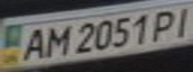0: (93, 16, 118, 52)
1: (127, 11, 157, 45)
2: (72, 19, 96, 55)
5: (112, 15, 136, 48)
A: (15, 25, 51, 62)
I: (166, 3, 193, 38)
M: (39, 22, 72, 58)
P: (145, 7, 184, 40)
